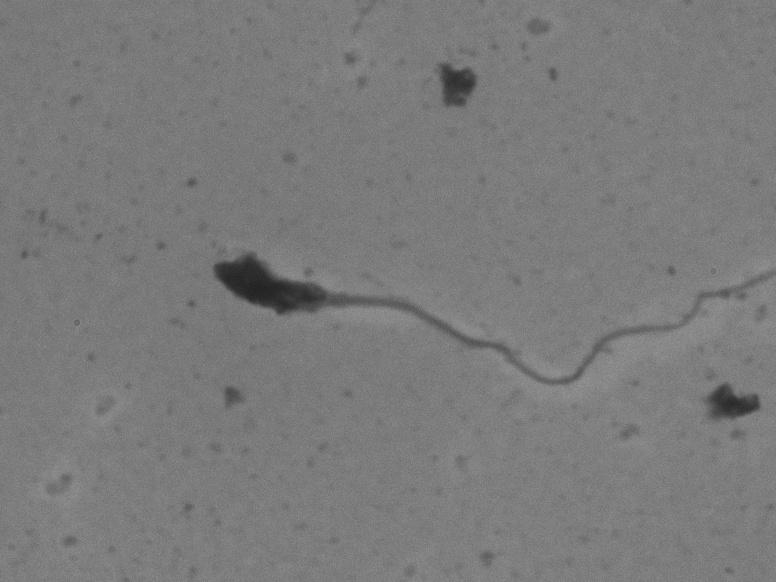Abnormal: (178, 197, 748, 407)
